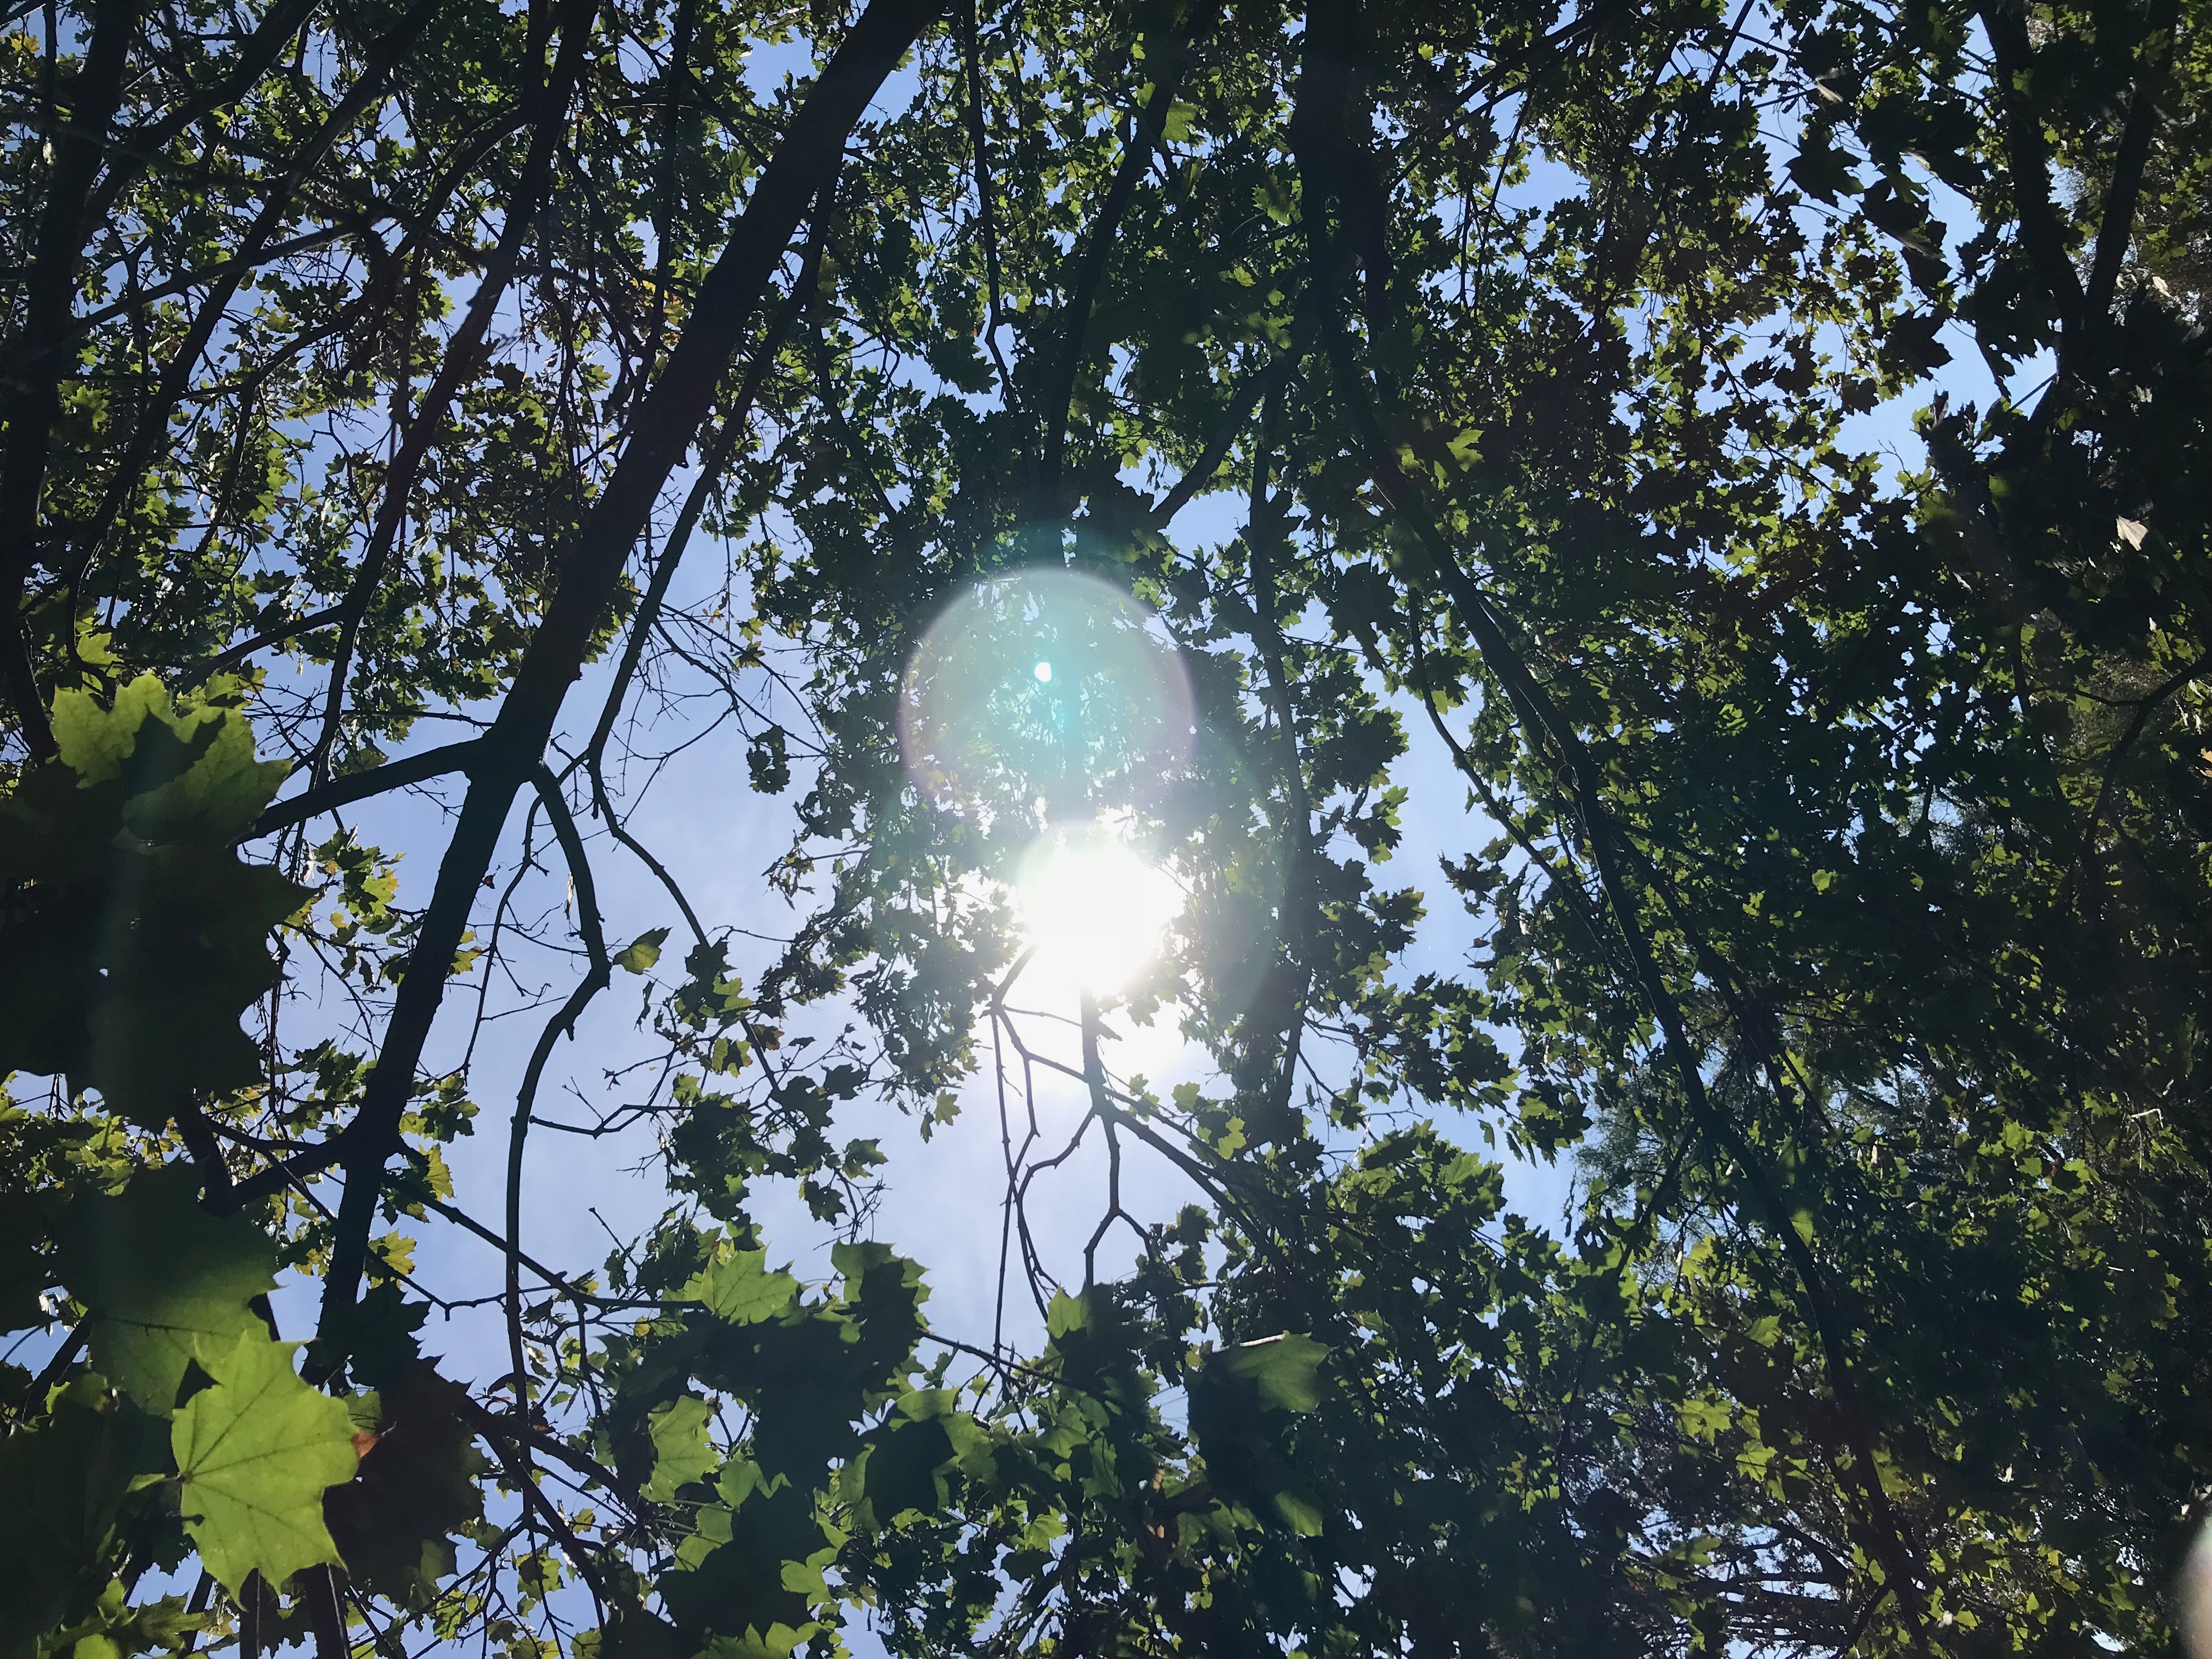flare: (1033, 660, 1055, 685)
